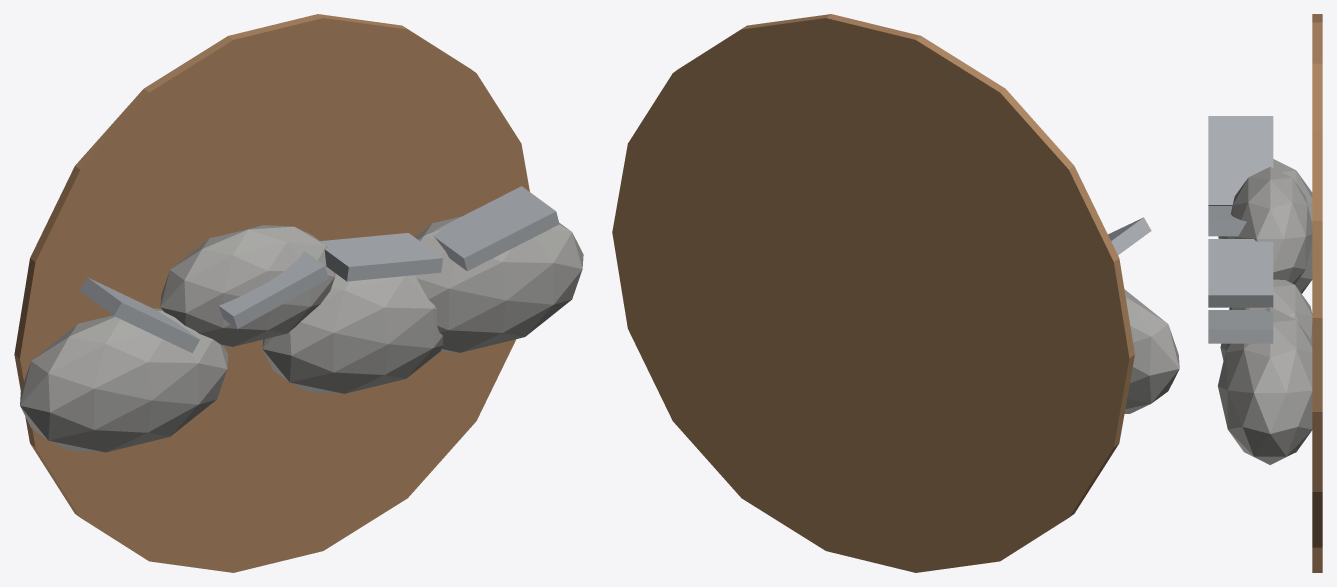
The model's file is 02_local_prop_cluster.glb.
3 views of the same model, side by side, from view 1: azimuth 30°, elevation 25°; view 2: azimuth 150°, elevation 25°; view 3: azimuth 270°, elevation 25° (orthographic). The views are drawn at different scales.
Parts seen in each view (by area): view 1: scatter_base, scrap_rock_0, scrap_rock_2, scrap_rock_3, scrap_rock_1, scrap_plate_3, scrap_plate_2, scrap_plate_1, scrap_plate_0; view 2: scatter_base, scrap_rock_0, scrap_plate_0; view 3: scrap_rock_3, scatter_base, scrap_rock_1, scrap_plate_0, scrap_plate_2, scrap_plate_3, scrap_rock_2, scrap_rock_0, scrap_plate_1.
Part boxes in pixels (x1,y1,x2,y2): scatter_base: (14, 14, 529, 572); scrap_rock_0: (20, 308, 228, 452); scrap_rock_2: (262, 273, 442, 393); scrap_rock_3: (415, 216, 583, 352); scrap_rock_1: (160, 225, 335, 346); scrap_plate_3: (433, 186, 559, 271); scrap_plate_2: (320, 233, 442, 281); scrap_plate_1: (219, 251, 328, 328); scrap_plate_0: (79, 277, 199, 353); scatter_base: (612, 14, 1134, 572); scrap_rock_0: (1124, 289, 1179, 413); scrap_plate_0: (1108, 217, 1151, 255); scrap_rock_3: (1218, 307, 1312, 464); scatter_base: (1312, 14, 1322, 572); scrap_rock_1: (1227, 166, 1312, 284); scrap_plate_0: (1208, 116, 1273, 205); scrap_plate_2: (1208, 239, 1273, 307); scrap_plate_3: (1208, 310, 1273, 343); scrap_rock_2: (1220, 279, 1312, 360); scrap_rock_0: (1218, 159, 1312, 293); scrap_plate_1: (1208, 206, 1246, 236).
Bounding box in the file's own units: 2.07 × 1.87 × 0.3877.
